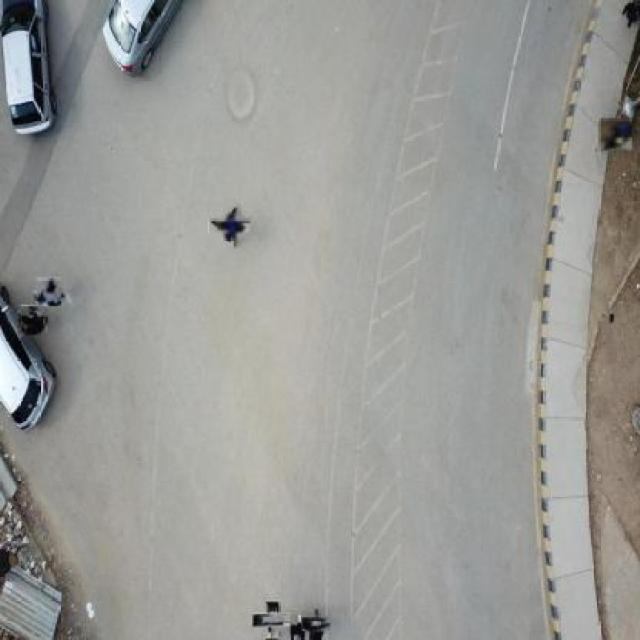Person: (600, 119, 632, 152), (214, 212, 246, 240), (20, 307, 48, 335), (35, 279, 63, 307), (259, 608, 286, 634), (304, 613, 328, 636)
